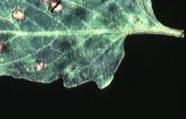Tomato Septoria leaf spot: (0, 0, 175, 102)
